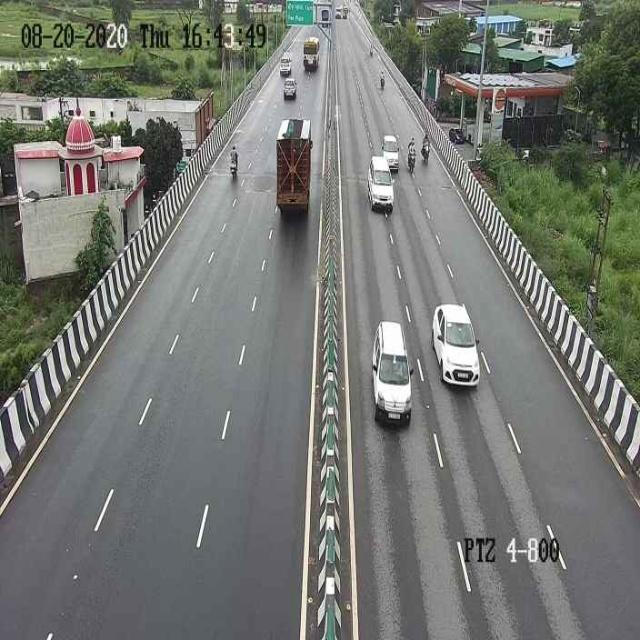car: (366, 312, 416, 430), (428, 295, 484, 391)
